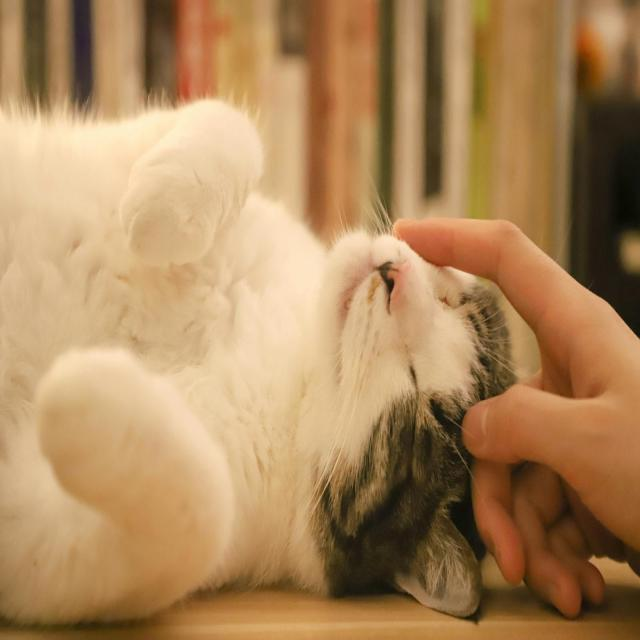Cat: (0, 85, 523, 628)
